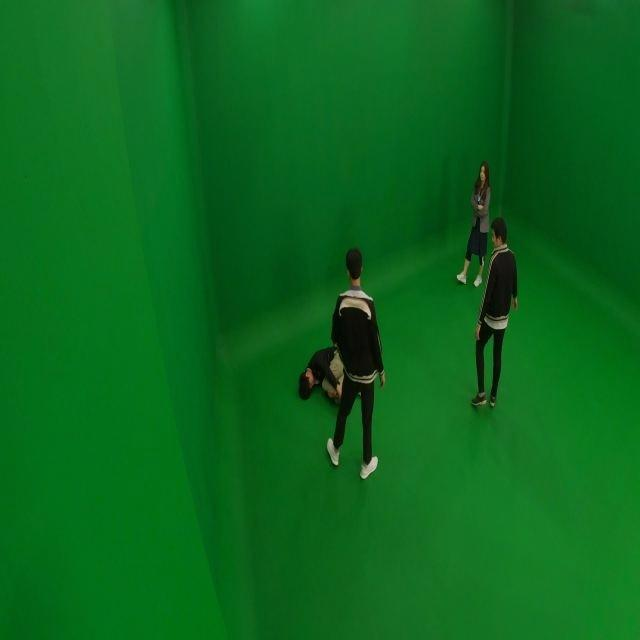non-fight: (323, 244, 388, 483), (471, 215, 517, 410), (455, 155, 495, 287), (296, 344, 346, 406)
